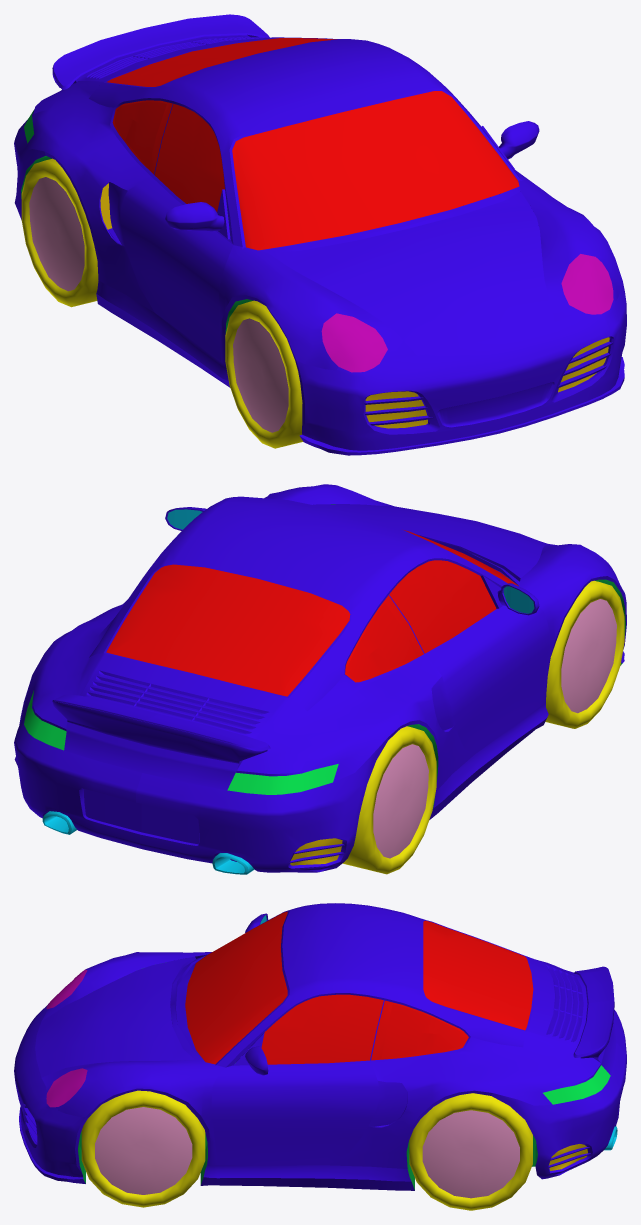
File: Car07_ColorCoded.fbx
3 renders of one model, top to bottom at view 1: azimuth 30°, elevation 25°; view 2: azimuth 150°, elevation 25°; view 3: azimuth 270°, elevation 25°, orthographic. The views are drawn at different scales.
Visible parts, largest first — view 1: carBody, tireFrontR, tireBackR; view 2: carBody, tireBackR, tireFrontR; view 3: carBody, tireFrontL, tireBackL.
Part boxes in pixels (x1,y1,x2,y2): carBody: (14, 14, 626, 455); tireFrontR: (225, 300, 303, 448); tireBackR: (21, 158, 98, 307); carBody: (14, 484, 626, 874); tireBackR: (342, 726, 436, 874); tireFrontR: (545, 580, 624, 728); carBody: (14, 903, 626, 1190); tireFrontL: (81, 1090, 205, 1207); tireBackL: (409, 1093, 532, 1210).
Size of the model in its own units: 64.88 by 111 by 40.79.
